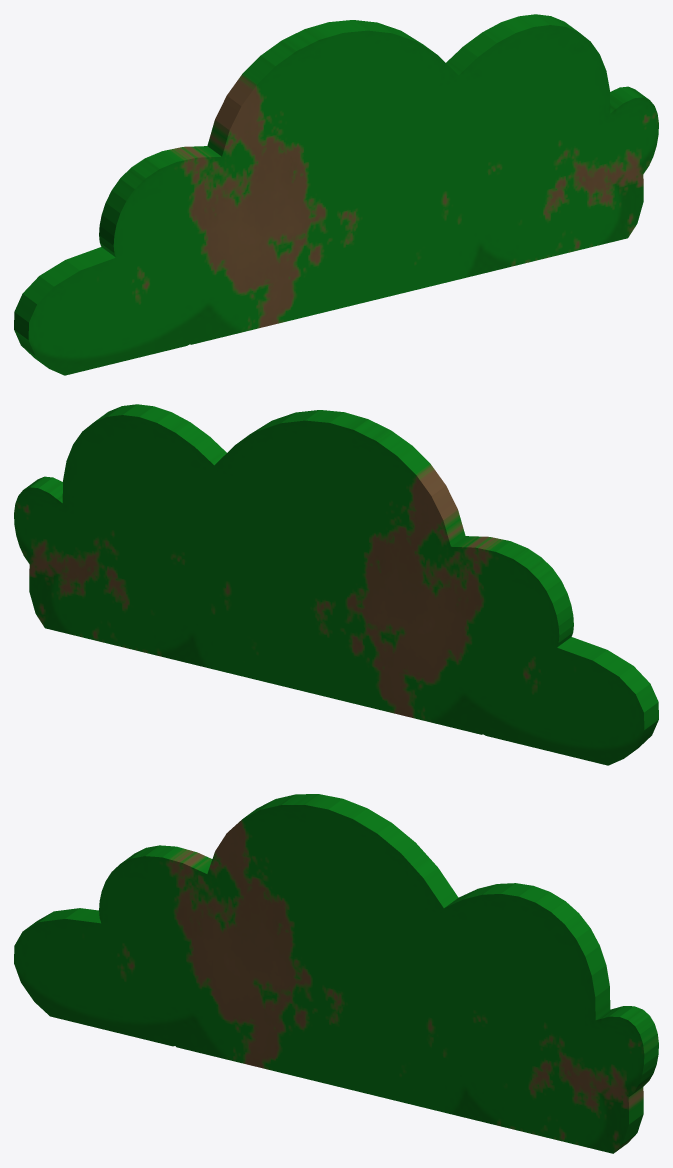
Rendered from Arbusto2Junto.fbx.
3 views of the same model, one above another, from view 1: azimuth 30°, elevation 25°; view 2: azimuth 150°, elevation 25°; view 3: azimuth 330°, elevation 25° (orthographic).
Visible parts, largest first — view 1: arbusto 2; view 2: arbusto 2; view 3: arbusto 2.
Part boxes in pixels (left/top/right/bottom): arbusto 2: left=14, top=14, right=658, bottom=375; arbusto 2: left=14, top=404, right=658, bottom=765; arbusto 2: left=14, top=794, right=658, bottom=1153.
Size of the model in its own units: 440 by 183 by 17.73.
